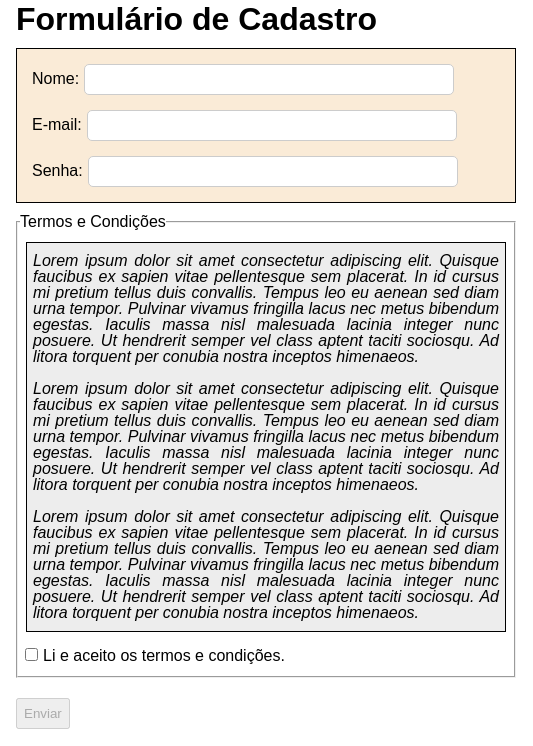
Scenario: form › forms integration test › should clean fields and show success message after clicking on submit button
The image size is (533, 746).
Note: Preenche os campos
Type "Usuário Teste" into the field with test id "input-name" at point(269, 80), box [84,64,454,95]
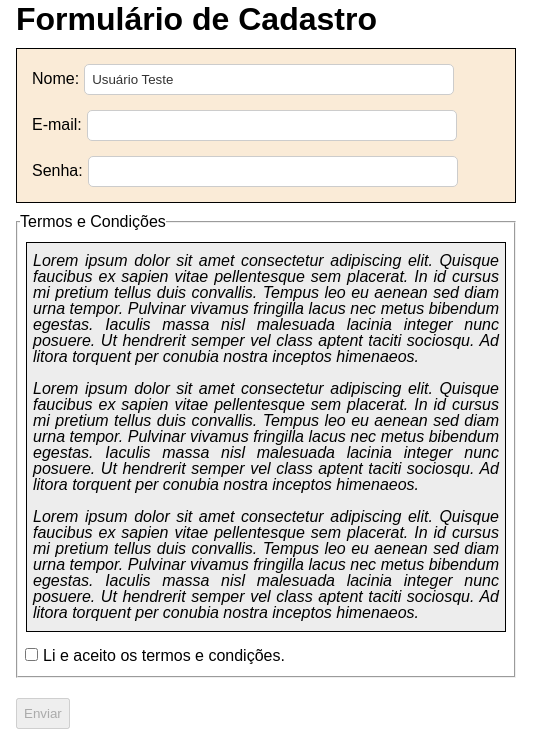
Type "teste@teste.com" into the field with test id "input-email" at point(272, 126), box [87,110,457,141]
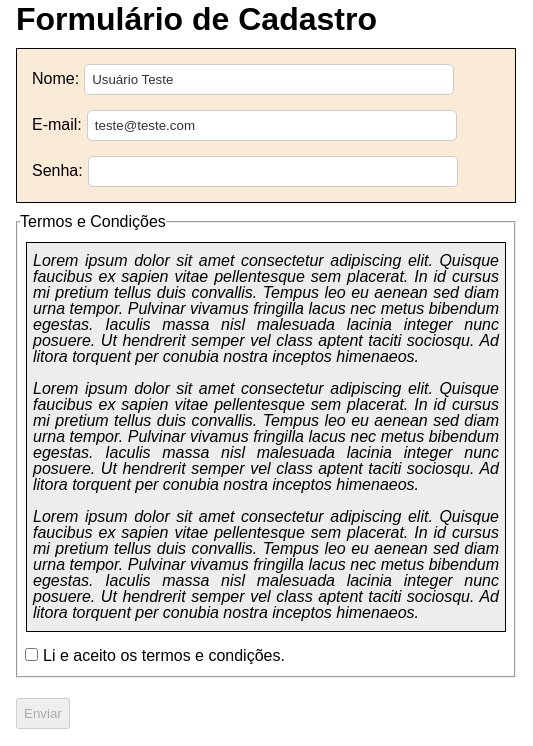
Type "teste12345" into the password field with test id "input-password" at point(273, 172), box [88,156,458,187]
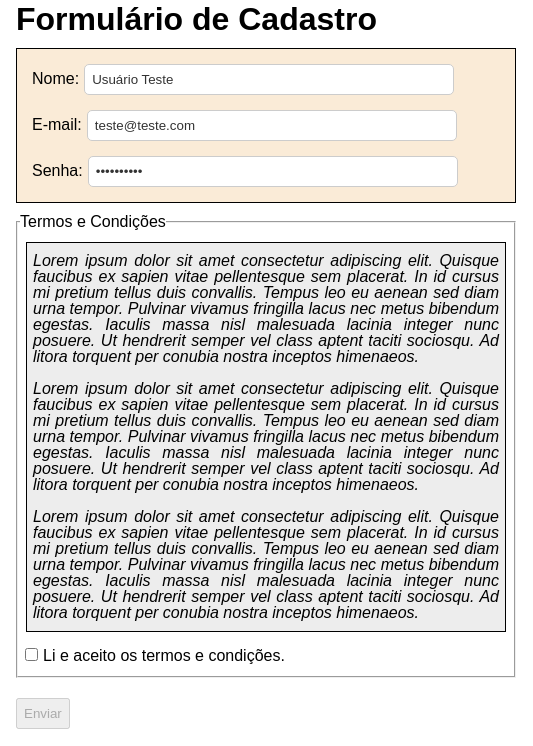
Click the checkbox with test id "input-terms" at point(32, 654), box [25,648,38,661]
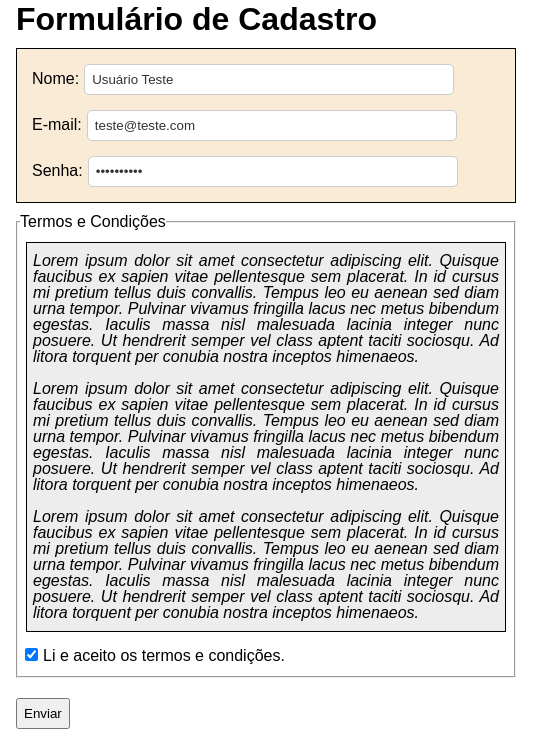
Click the button with test id "button-submit" at point(43, 714), box [16,698,70,729]
(page scrolled)
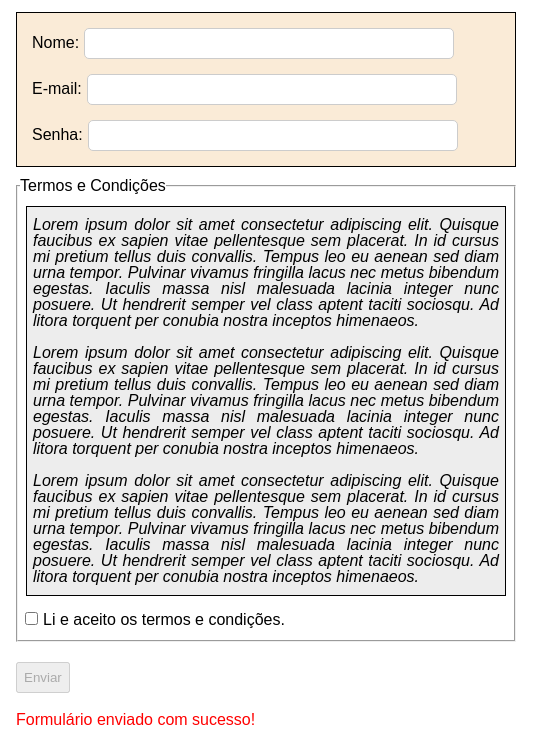
Check: the message with test id "submit-msg" reads "Formulário enviado com sucesso!", box [16,711,255,728]
